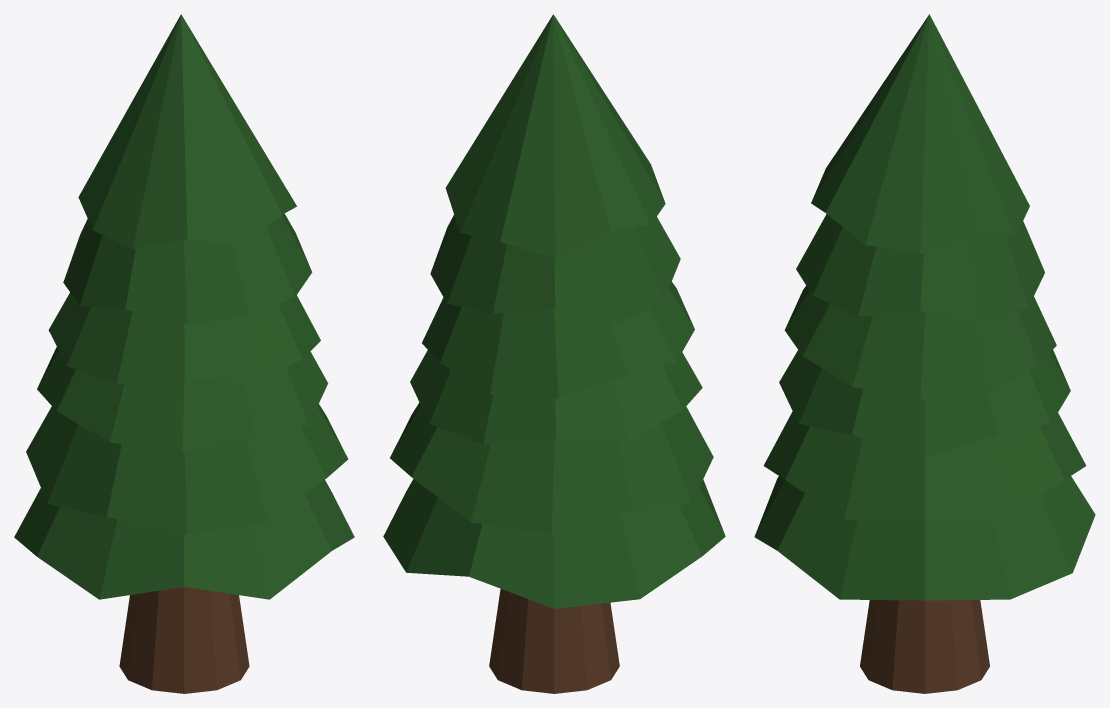
File: tree_noise.glb
The picture shows the model from 3 angles, left to right: view 1: azimuth 30°, elevation 25°; view 2: azimuth 150°, elevation 25°; view 3: azimuth 270°, elevation 25°; orthographic projection.
Visible parts, largest first — view 1: Cylinder.002; view 2: Cylinder.002; view 3: Cylinder.002.
Part boxes in pixels (x1,y1,x2,y2): Cylinder.002: [14, 14, 354, 693]; Cylinder.002: [383, 14, 725, 693]; Cylinder.002: [754, 14, 1095, 693].
Bounding box in the file's own units: 2.65 × 5.6 × 2.65.
